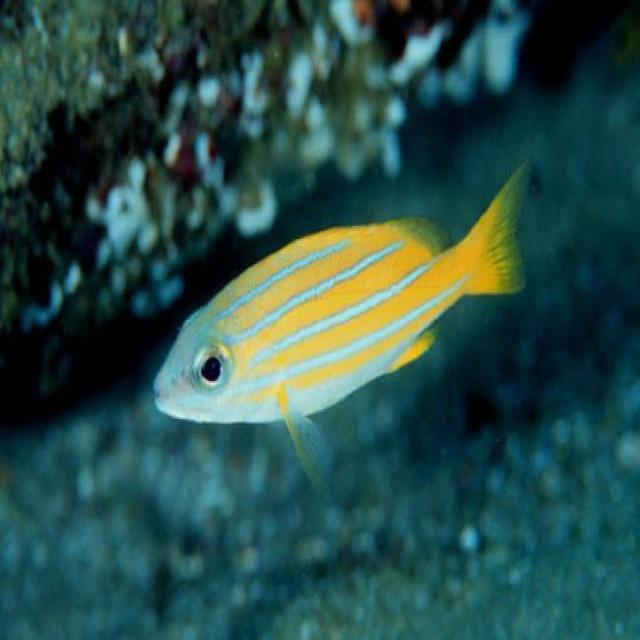ikan: (152, 156, 532, 486)
